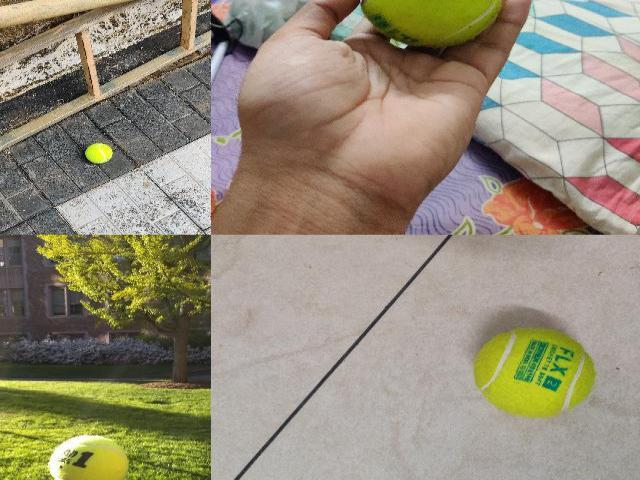tennis-ball: (473, 328, 595, 418), (358, 0, 503, 49), (47, 434, 130, 480), (84, 142, 112, 163)
